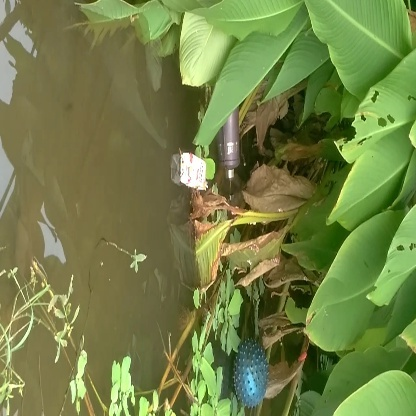ball: (227, 329, 277, 411)
milk-box: (170, 144, 216, 200)
